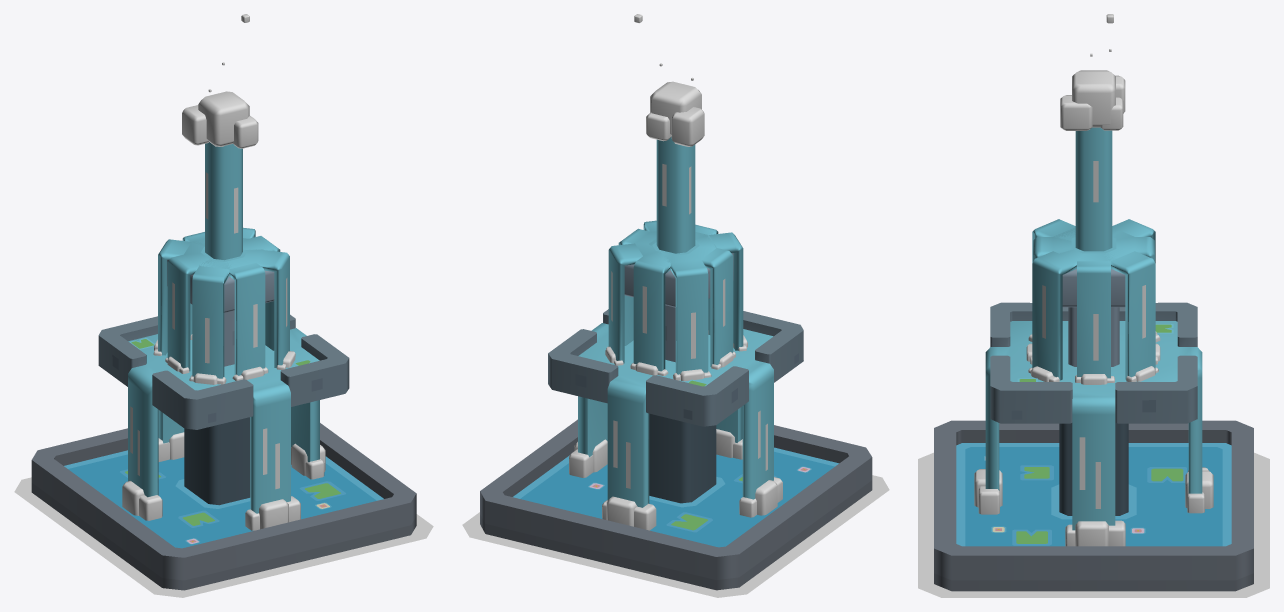
Rendered from MG_fountain_dot_large.fbx.
3 views of the same model, side by side, from view 1: azimuth 30°, elevation 25°; view 2: azimuth 150°, elevation 25°; view 3: azimuth 270°, elevation 25° (orthographic). The views are drawn at different scales.
Parts seen in each view (by area): view 1: polySurface3, polySurface1, ground, polySurface41, polySurface43, polySurface47, polySurface42, polySurface58, polySurface56; view 2: polySurface3, polySurface1, ground, polySurface41, polySurface43, polySurface53, polySurface56, polySurface44, polySurface52; view 3: polySurface3, polySurface1, ground, polySurface41, polySurface42, polySurface50, polySurface49, polySurface53.
Boxes of the visible parts, left/top/right/bottom form: polySurface3: left=64, top=142, right=383, bottom=548; polySurface1: left=31, top=260, right=416, bottom=590; ground: left=14, top=477, right=433, bottom=597; polySurface41: left=198, top=91, right=249, bottom=146; polySurface43: left=182, top=105, right=208, bottom=145; polySurface47: left=259, top=499, right=288, bottom=529; polySurface42: left=233, top=115, right=258, bottom=148; polySurface58: left=139, top=495, right=162, bottom=520; polySurface56: left=122, top=481, right=144, bottom=515; polySurface3: left=513, top=136, right=838, bottom=547; polySurface1: left=480, top=253, right=872, bottom=590; ground: left=462, top=475, right=889, bottom=597; polySurface41: left=650, top=81, right=701, bottom=135; polySurface43: left=671, top=107, right=704, bottom=146; polySurface53: left=606, top=496, right=637, bottom=526; polySurface56: left=755, top=480, right=777, bottom=515; polySurface44: left=646, top=112, right=671, bottom=141; polySurface52: left=569, top=449, right=593, bottom=477; polySurface3: left=956, top=127, right=1231, bottom=546; polySurface1: left=934, top=269, right=1253, bottom=591; ground: left=918, top=452, right=1269, bottom=597; polySurface41: left=1072, top=70, right=1115, bottom=127; polySurface42: left=1060, top=95, right=1092, bottom=130; polySurface50: left=1075, top=521, right=1108, bottom=546; polySurface49: left=978, top=486, right=999, bottom=514; polySurface53: left=1185, top=470, right=1213, bottom=508.
Bounding box in the file's own units: 9.62 × 15.84 × 9.63.
